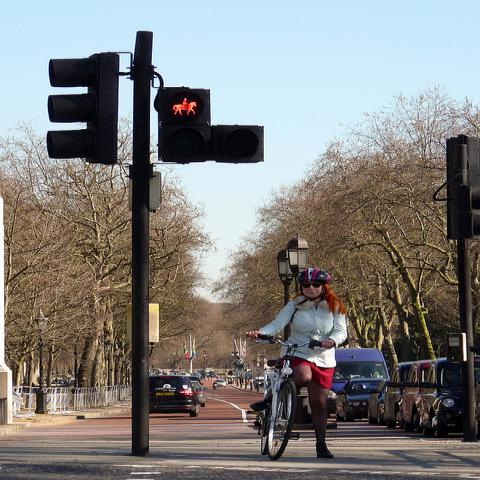car: (418, 358, 466, 437), (384, 362, 418, 429), (401, 359, 432, 432), (336, 378, 387, 420), (150, 375, 200, 417), (366, 374, 392, 426), (192, 381, 208, 407), (189, 377, 204, 385), (216, 379, 228, 388), (253, 379, 264, 387), (223, 376, 233, 384), (208, 371, 219, 377)
truck: (326, 347, 388, 416)
